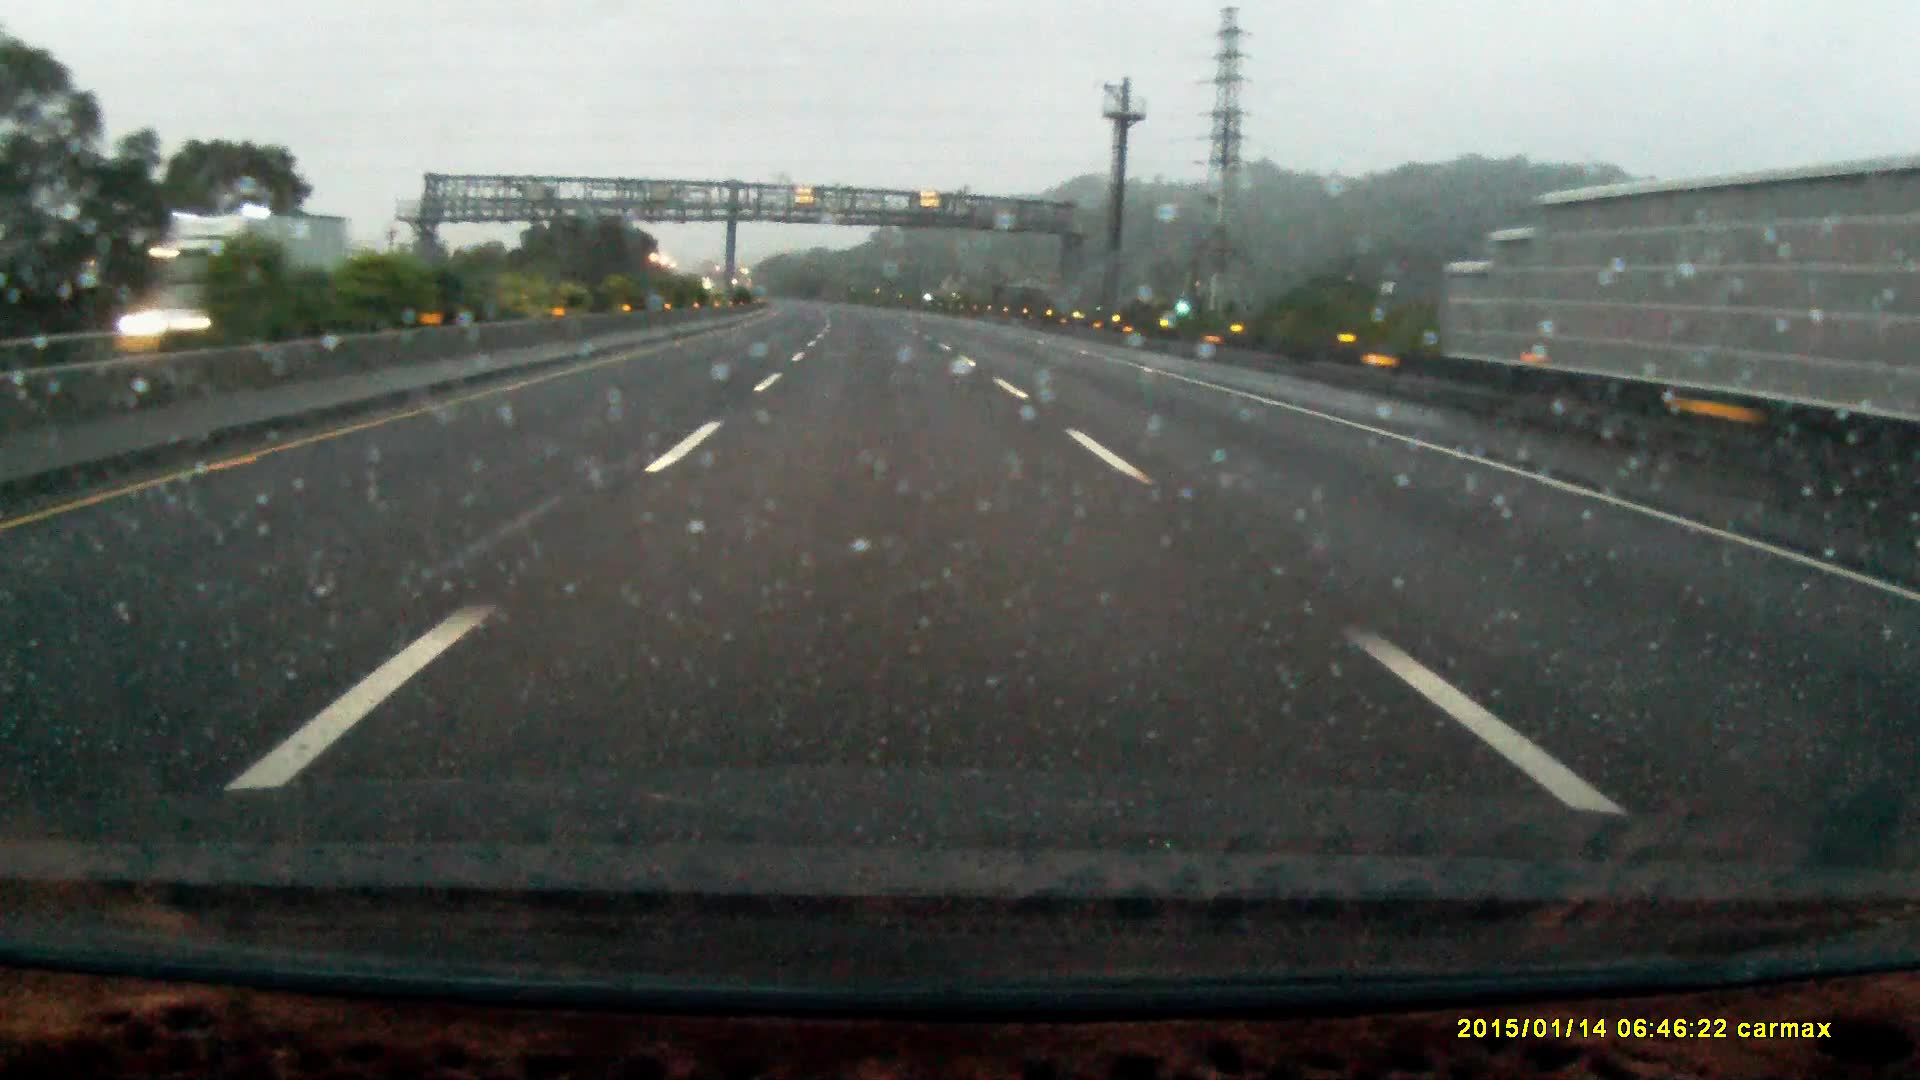vehicle: (141, 214, 342, 330), (107, 284, 229, 369)
